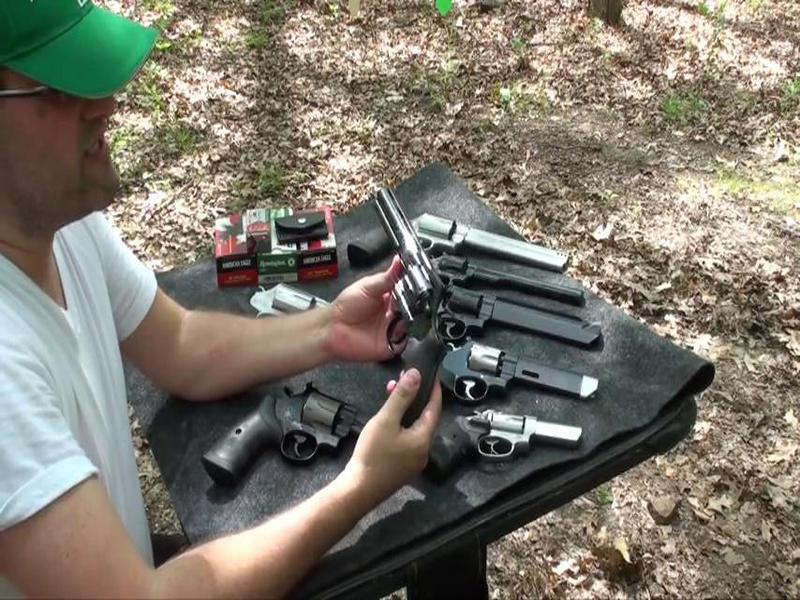Revolver: (346, 183, 477, 442)
